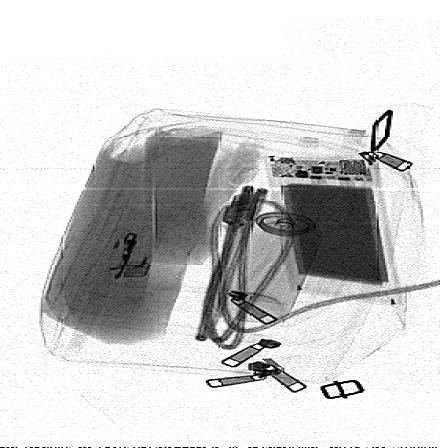Lighter: (122, 223, 168, 278)
Powerbank: (265, 155, 401, 305)
Sprayer: (211, 193, 325, 324)
